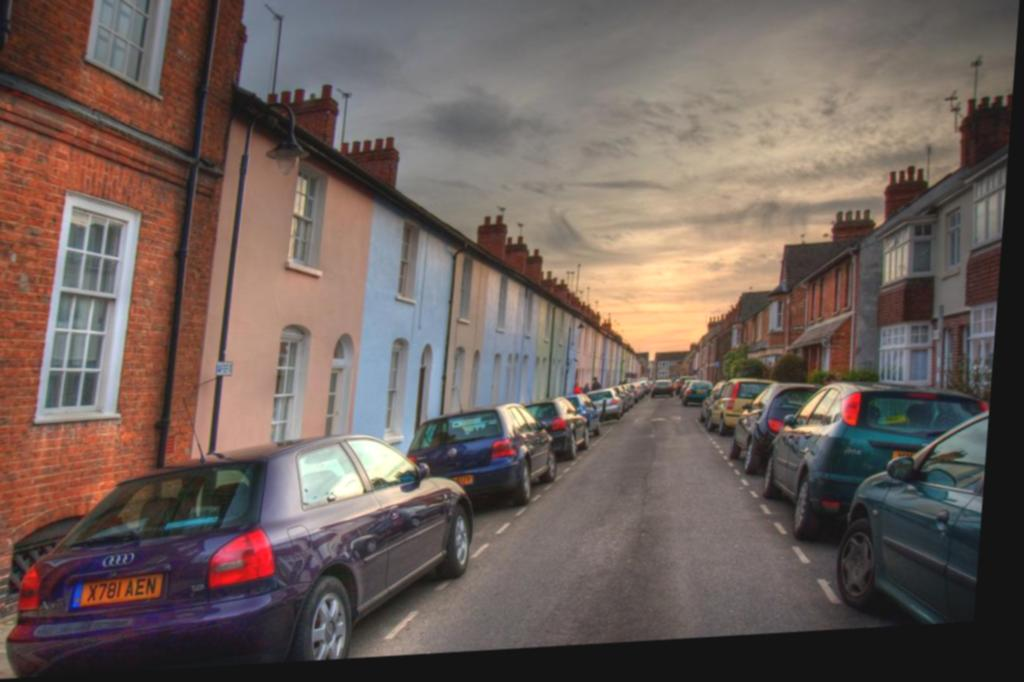License_Plate: (72, 572, 161, 610), (450, 476, 473, 486)
